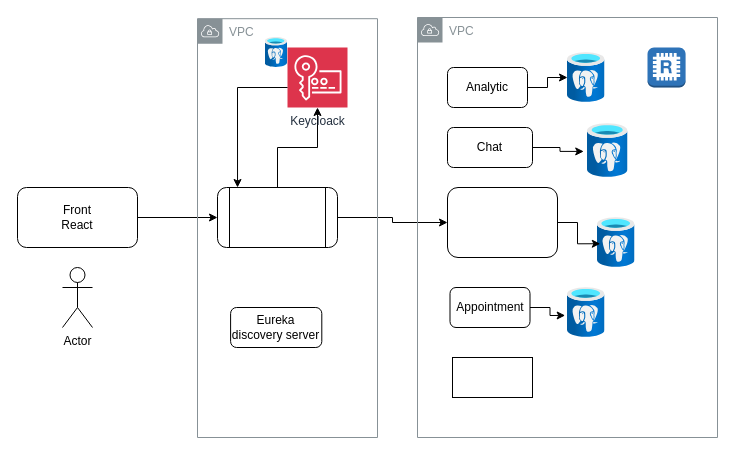
This 735x455 diagram has some shape labels left out. Here are the shapes that lost their labels. From the top down, the box of each, then its label:
(646, 46, 686, 88): Cash Redis
(216, 186, 338, 248): Api Gateway Spring Api Gateway
(446, 186, 558, 258): Immo-register and fetch
(452, 356, 532, 398): Notification
